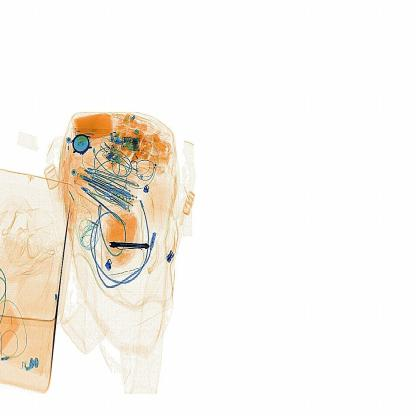knife: (108, 237, 152, 254)
